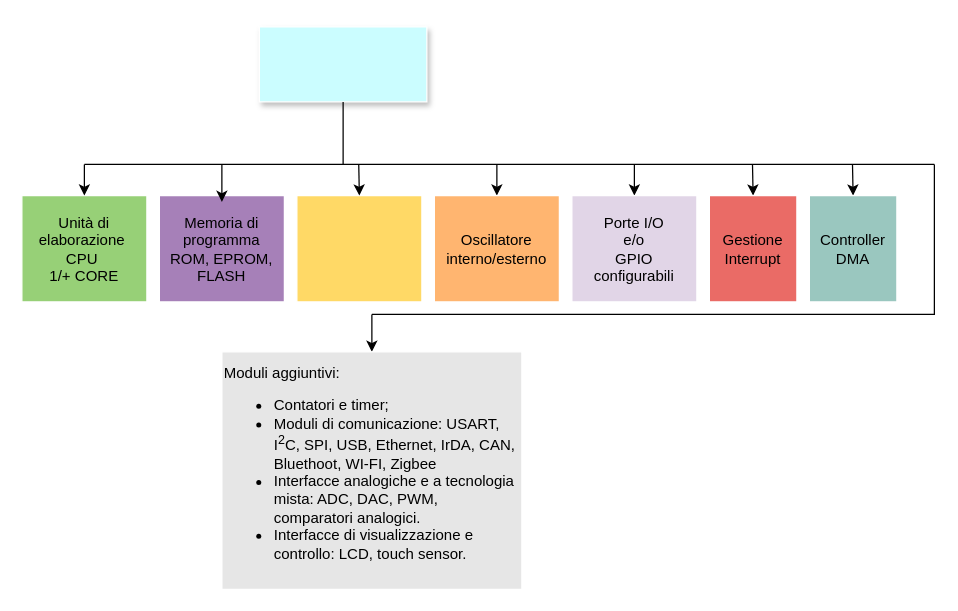
Image size: 958x611. Some labels were removed from this diagram. Here are the shapes that lost their labels. From the top down, the centre of each, then its label:
At point (343, 66): "MCU (IC: integrated circuit)".
At point (359, 248): "Memoria dati RAM, EEPROM".
